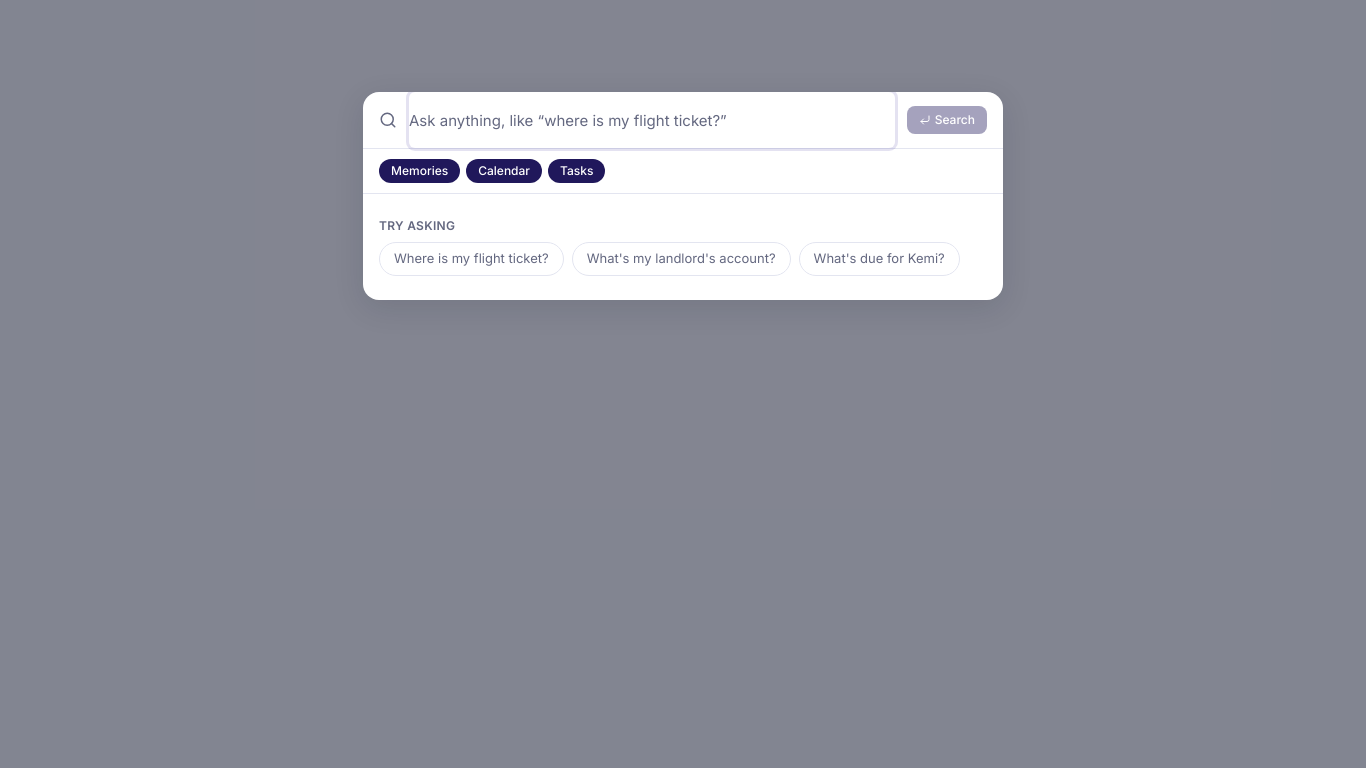
SearchPalette › says 'not found' honestly instead of fabricating (PRD KNW-05)
Type "quantum flux capacitor schematics" into the field named "Search or ask Amiva" at (652, 120), box [409,92,895,148]
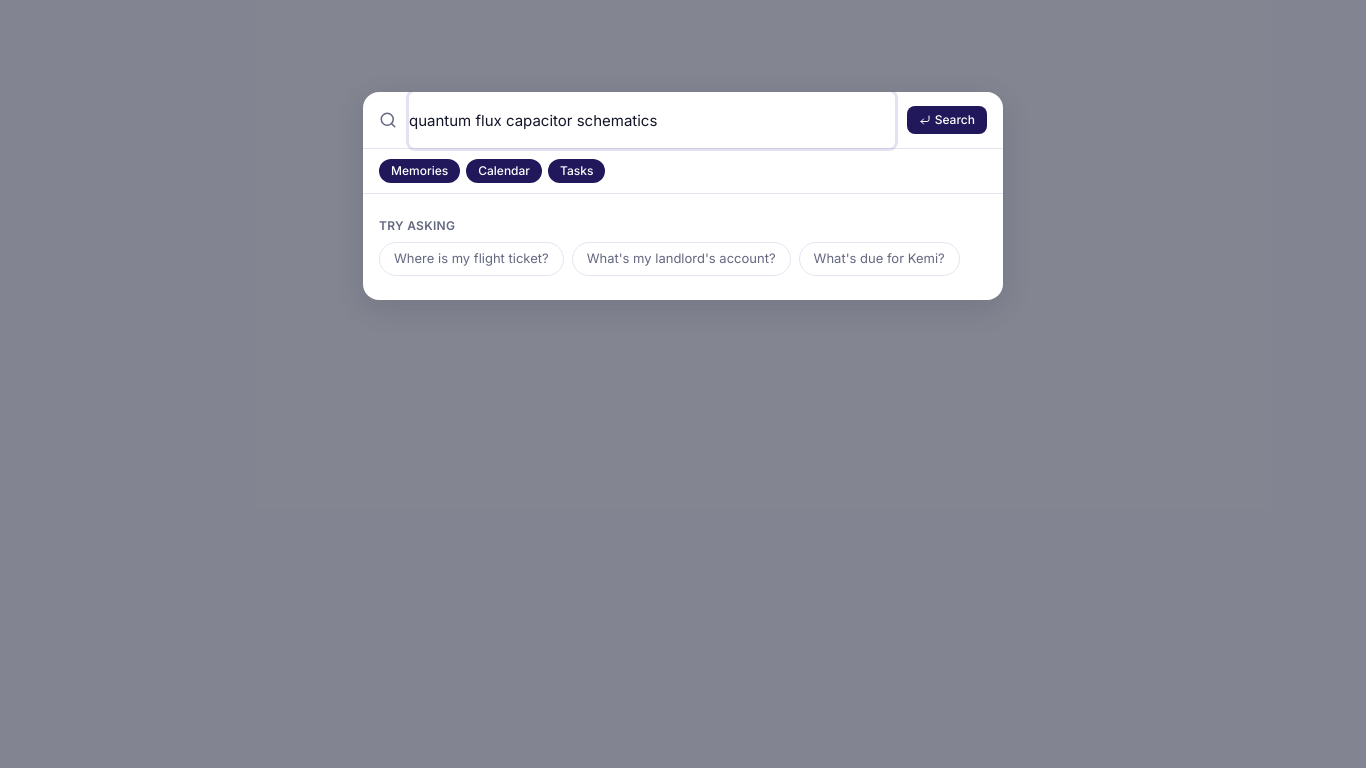
Click the button "Search" at (947, 120), box [907,106,987,134]
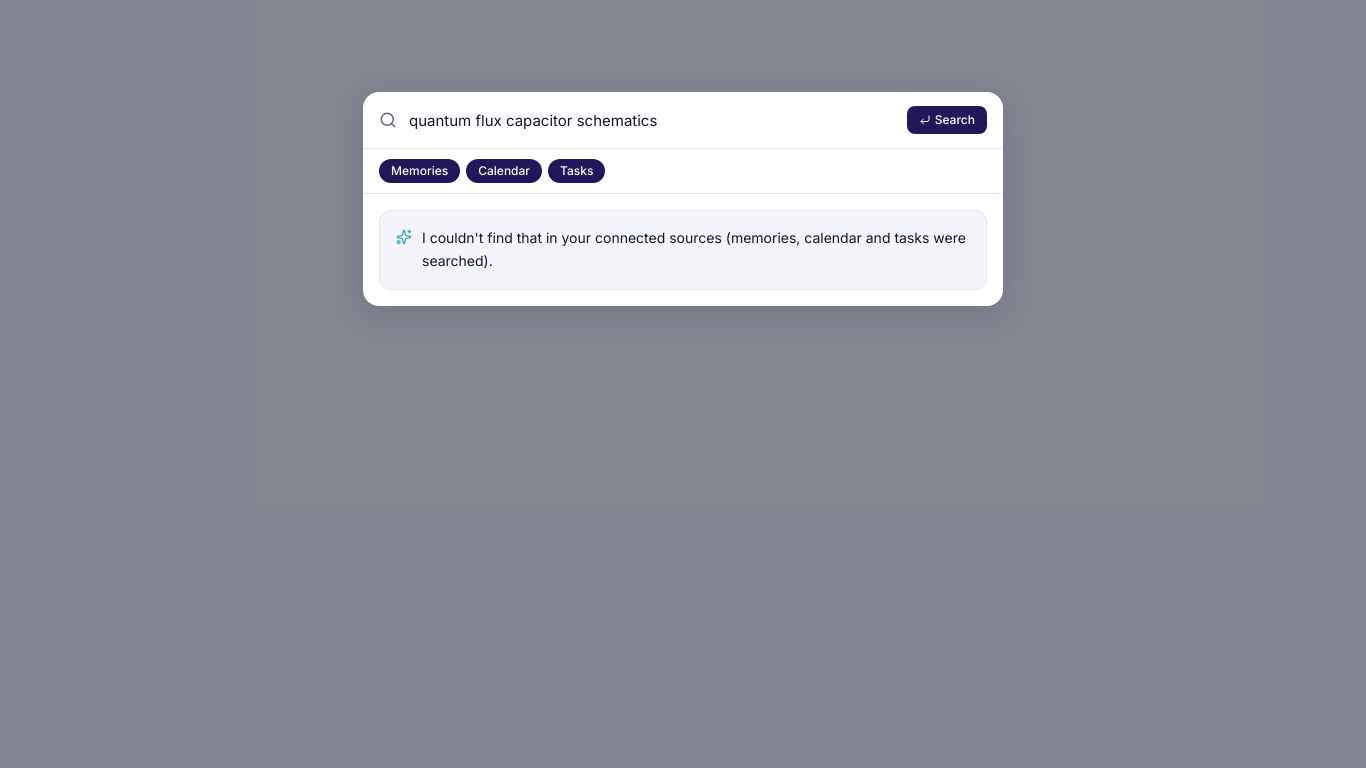
Expected: the text "couldn't find that" is shown, [422,229,966,269]
